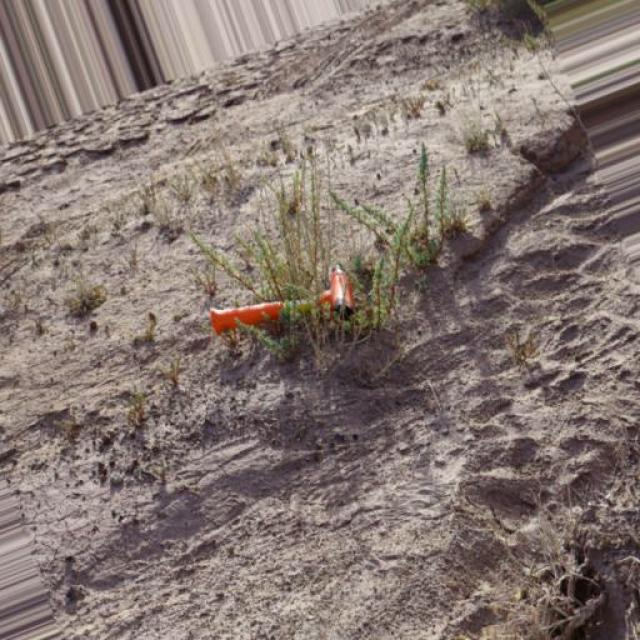mallet: (210, 262, 358, 338)
